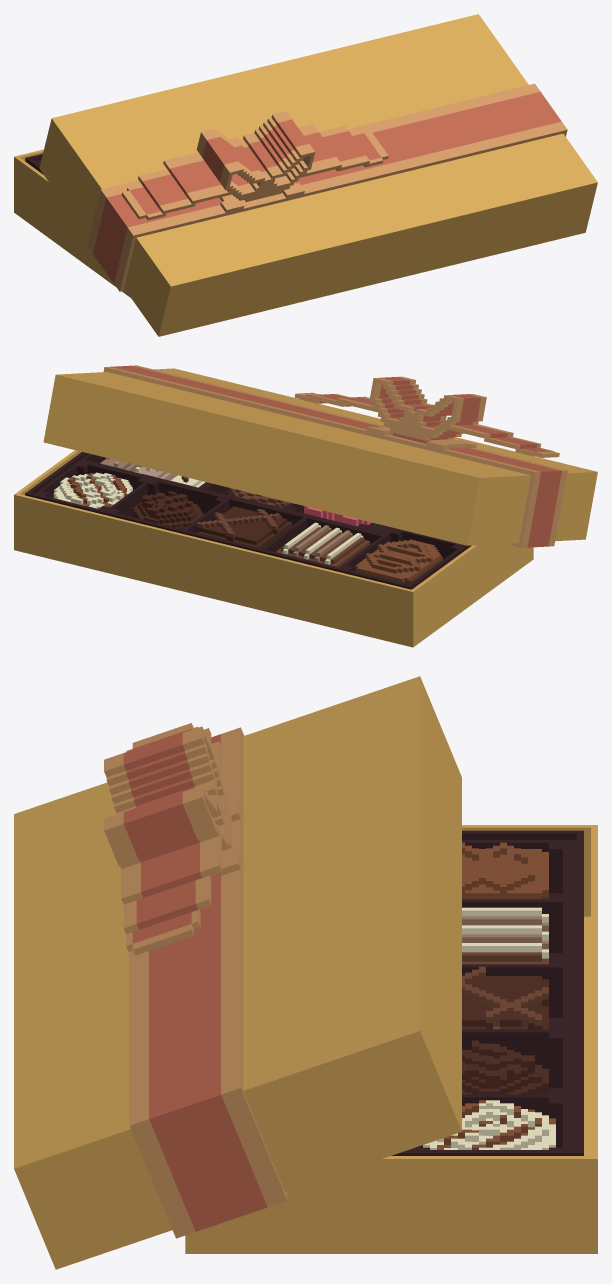
The model's file is chocolate box open.fbx.
3 renders of one model, top to bottom at view 1: azimuth 30°, elevation 25°; view 2: azimuth 150°, elevation 25°; view 3: azimuth 270°, elevation 25°, orthographic. The views are drawn at different scales.
Parts seen in each view (by area): view 1: cap, box; view 2: cap, box; view 3: cap, box.
Boxes of the visible parts, x1,y1,x2,y2 form: cap: (39,14,597,336); box: (14,149,130,297); cap: (43,365,597,547); box: (14,450,533,647); cap: (14,676,461,1269); box: (185,825,597,1253).
Bounding box in the file's own units: 122 × 40.96 × 83.48.
1 material, 1 textured.
